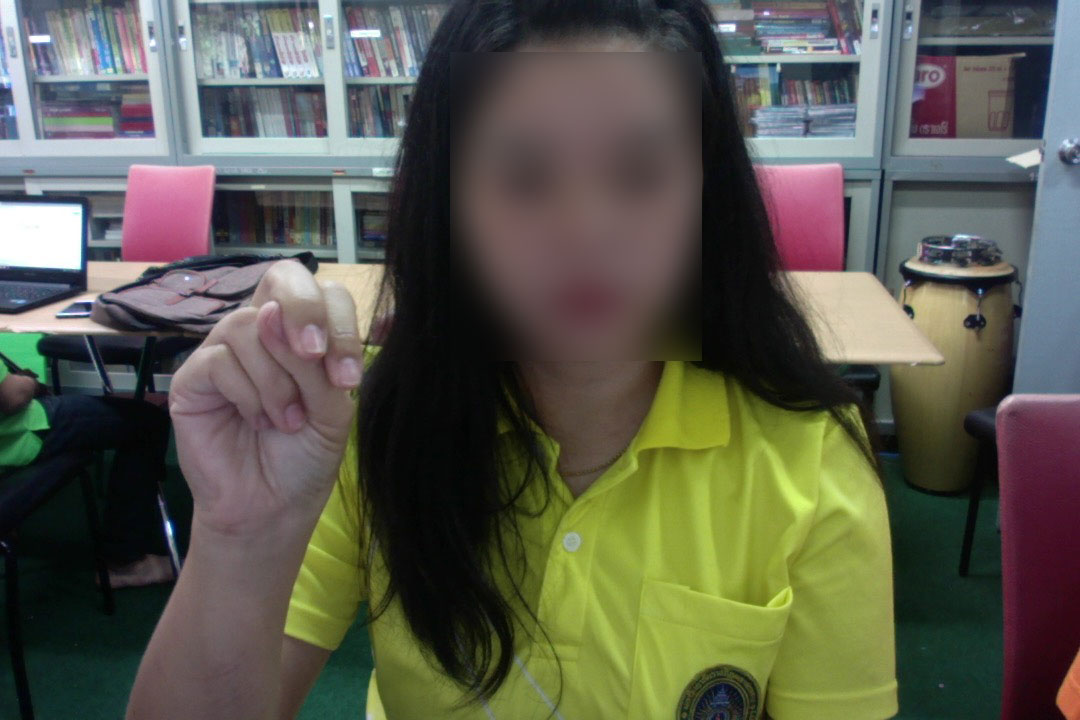nor: (158, 251, 373, 549)
